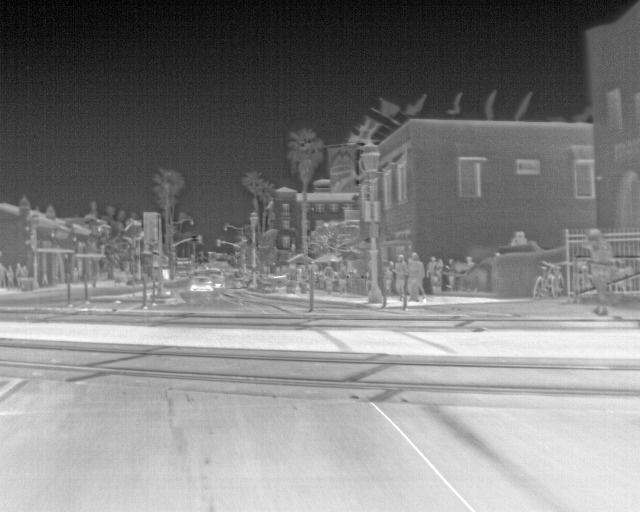bicycle: (186, 270, 214, 297), (201, 264, 224, 291)
empty: (580, 229, 614, 320), (406, 251, 427, 303), (531, 266, 555, 302), (394, 253, 410, 298), (320, 259, 335, 294), (549, 266, 566, 293), (337, 262, 349, 294), (4, 265, 17, 286), (19, 261, 32, 278)
